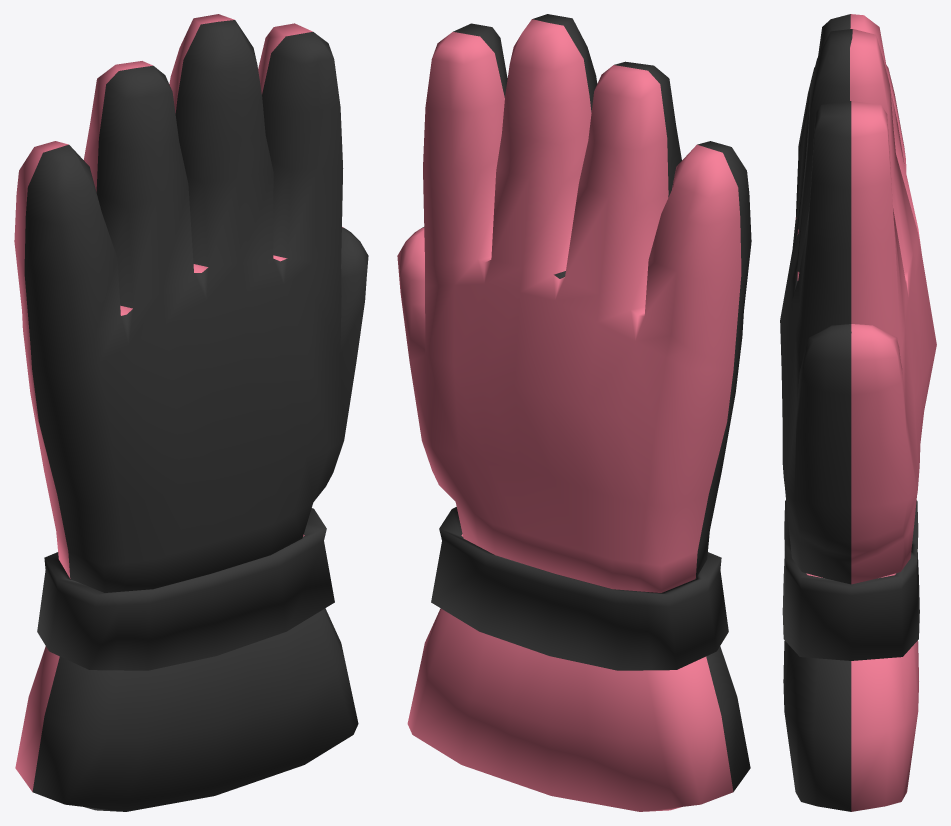
Rendered from Mittens_FULL.fbx.
3 renders of one model, left to right at view 1: azimuth 30°, elevation 25°; view 2: azimuth 150°, elevation 25°; view 3: azimuth 270°, elevation 25°, orthographic.
Visible parts, largest first — view 1: Mitten Full; view 2: Mitten Full; view 3: Mitten Full.
Part boxes in pixels (left/top/right/bottom): Mitten Full: left=14, top=14, right=368, bottom=811; Mitten Full: left=397, top=14, right=751, bottom=811; Mitten Full: left=780, top=14, right=936, bottom=811.
Bounding box in the file's own units: 174 × 381 × 71.73.
